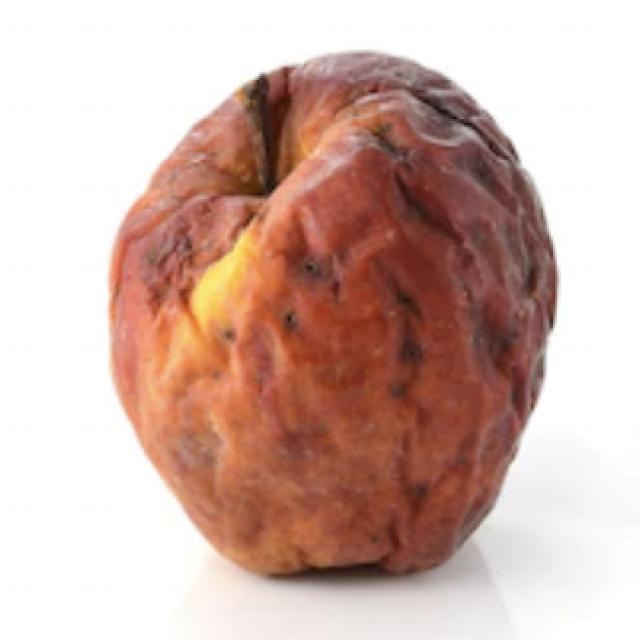Rotten: (100, 57, 538, 595)
